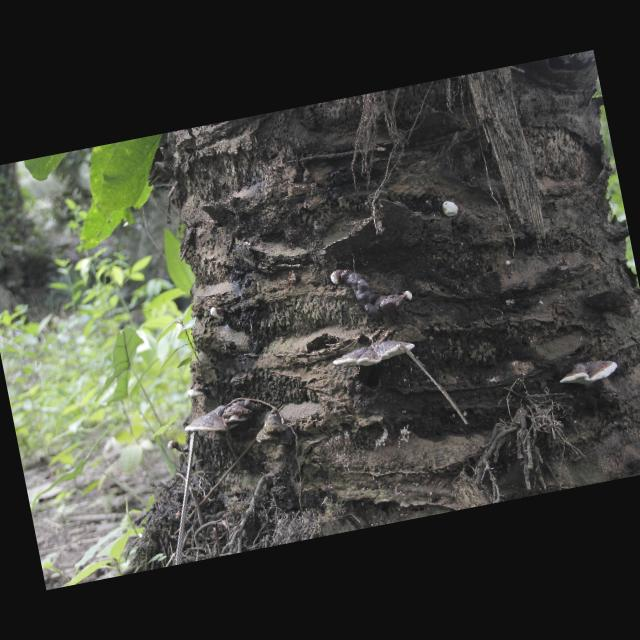ganoderma: (343, 260, 409, 327), (333, 336, 419, 374), (183, 403, 241, 440), (559, 358, 622, 392), (221, 397, 263, 427), (187, 384, 211, 400)
primordium: (442, 201, 461, 220), (330, 270, 345, 287), (212, 307, 227, 323), (168, 440, 180, 453), (405, 290, 415, 303), (506, 261, 512, 268)
